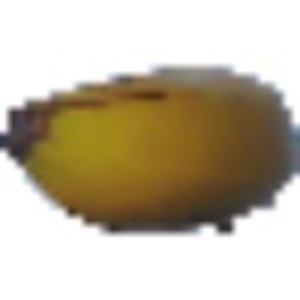banana: (5, 55, 295, 236)
